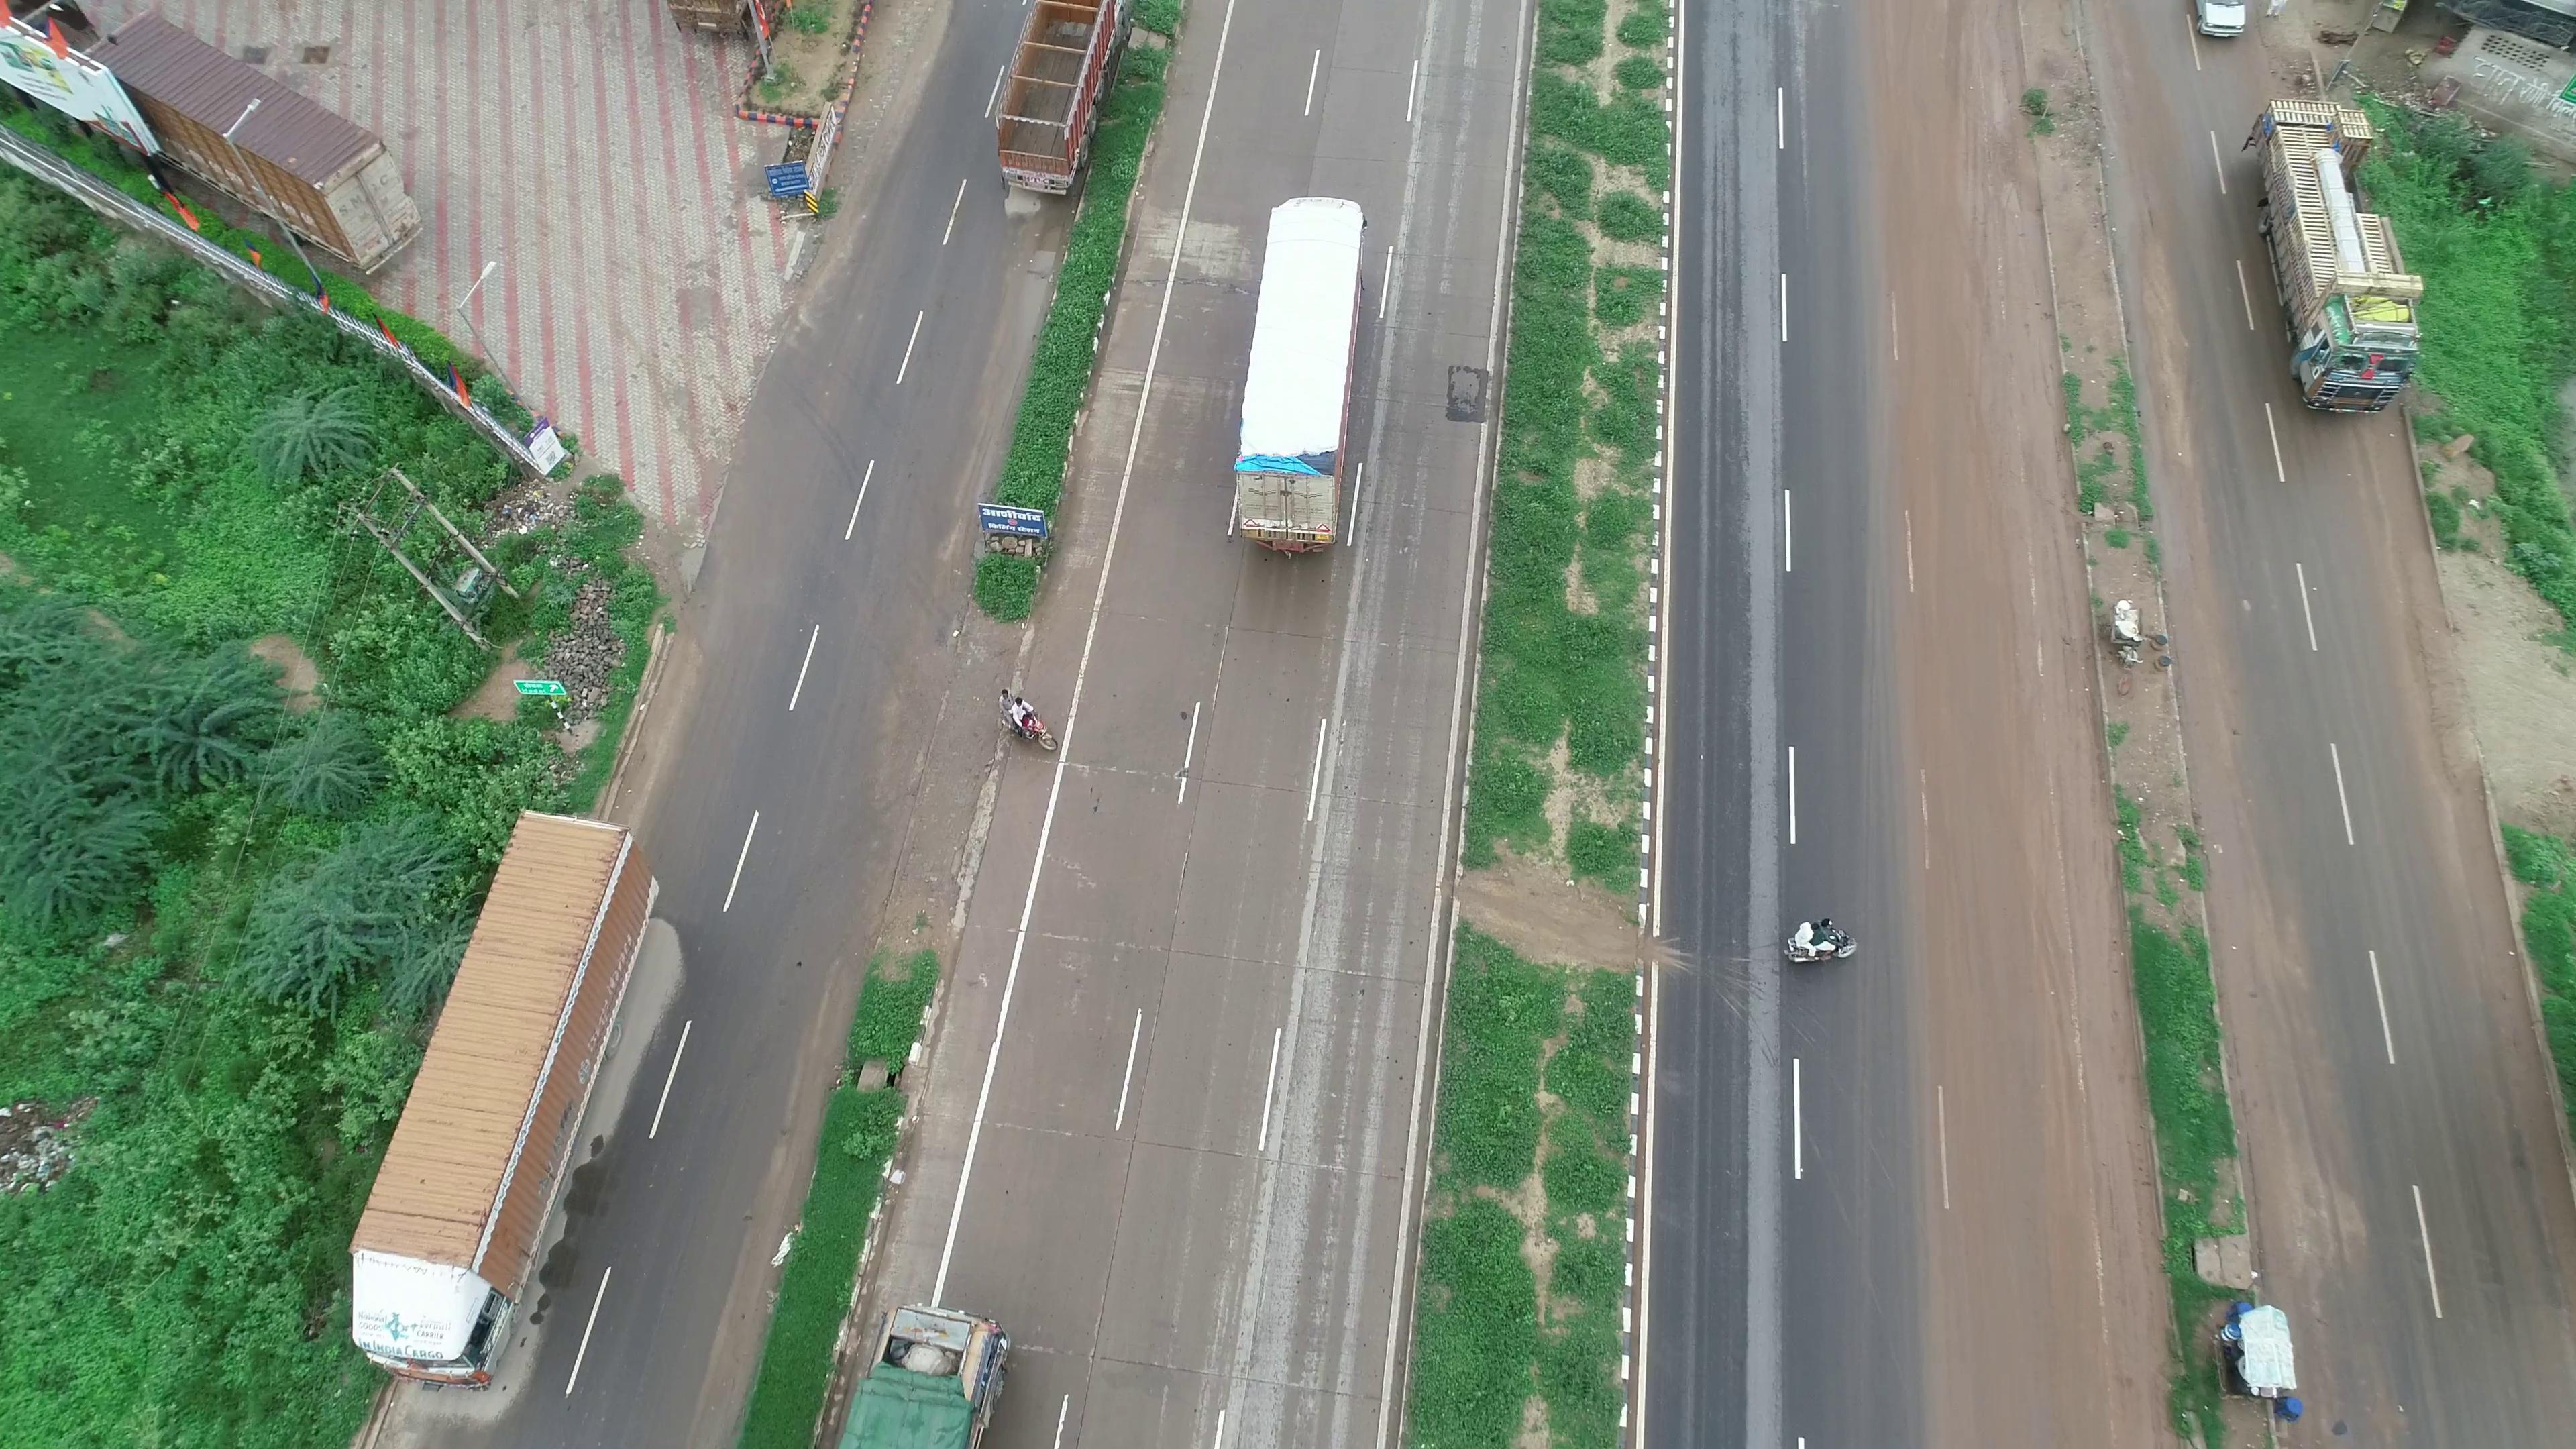Muddy_road: (1930, 789, 2127, 1419), (1913, 326, 2056, 768), (1882, 16, 2029, 320)
